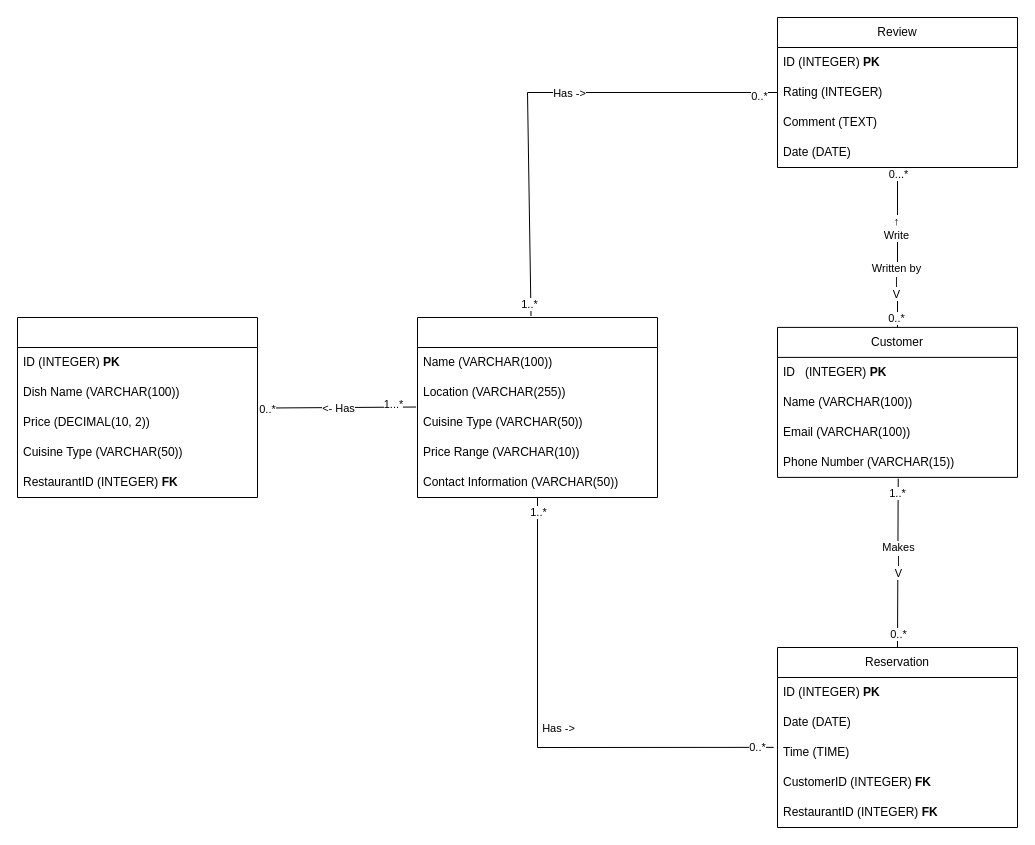
This 1035x845 diagram has some shape labels left out. Here are the shapes that lost their labels. From the top down, the box of each, then its label:
(16, 316, 258, 498): Menu
(416, 316, 658, 498): Restaurant
